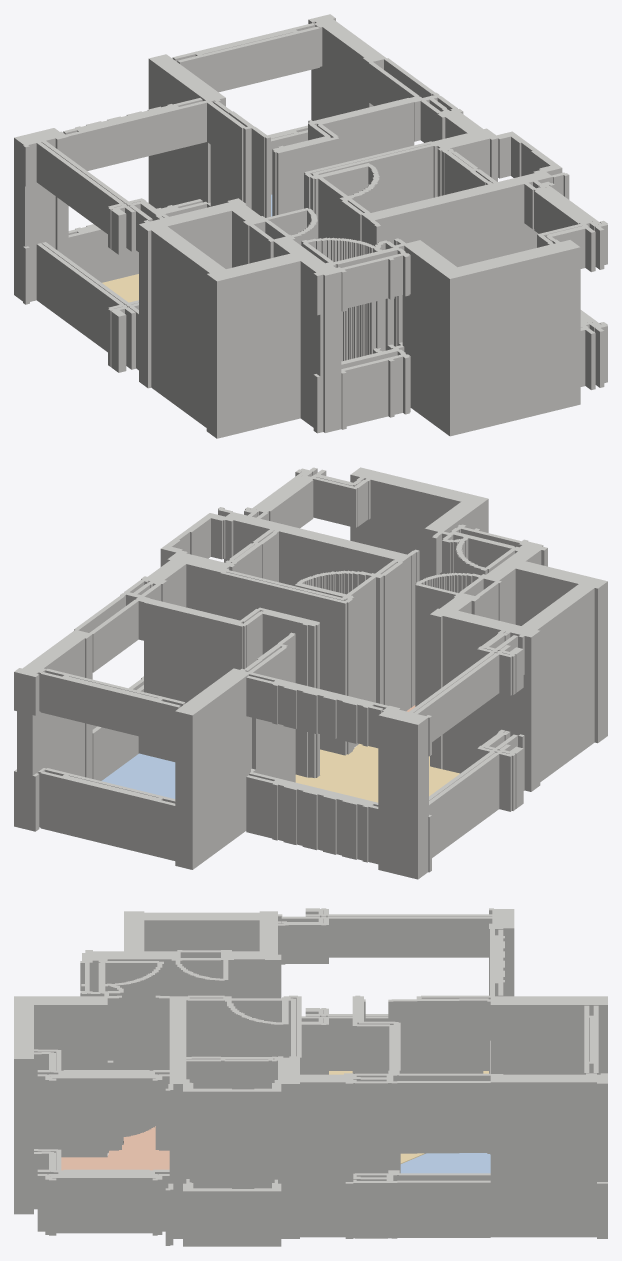
The picture shows the model from 3 angles, top to bottom: view 1: azimuth 30°, elevation 25°; view 2: azimuth 150°, elevation 25°; view 3: azimuth 270°, elevation 25°; orthographic projection.
Parts seen in each view (by area): view 1: walls, room:living:3; view 2: walls, room:living:3, room:bedroom:4; view 3: walls, room:kitchen:5, room:bedroom:4.
Part boxes in pixels (x1,y1,x2,y2): walls: [14, 14, 607, 438]; room:living:3: [102, 274, 138, 302]; walls: [14, 467, 607, 879]; room:living:3: [295, 744, 459, 802]; room:bedroom:4: [101, 753, 175, 798]; walls: [14, 908, 607, 1246]; room:kitchen:5: [61, 1126, 169, 1170]; room:bedroom:4: [400, 1153, 490, 1173].
Size of the model in its own units: 7.1 by 2.8 by 9.72.
